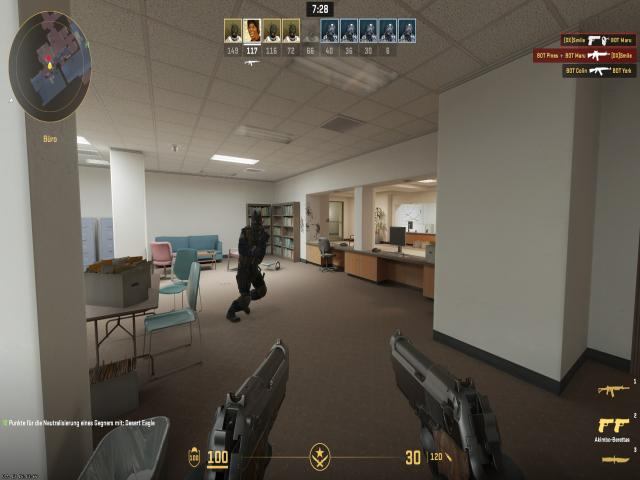CT: (239, 211, 268, 308)
CT-Head: (251, 211, 263, 228)
